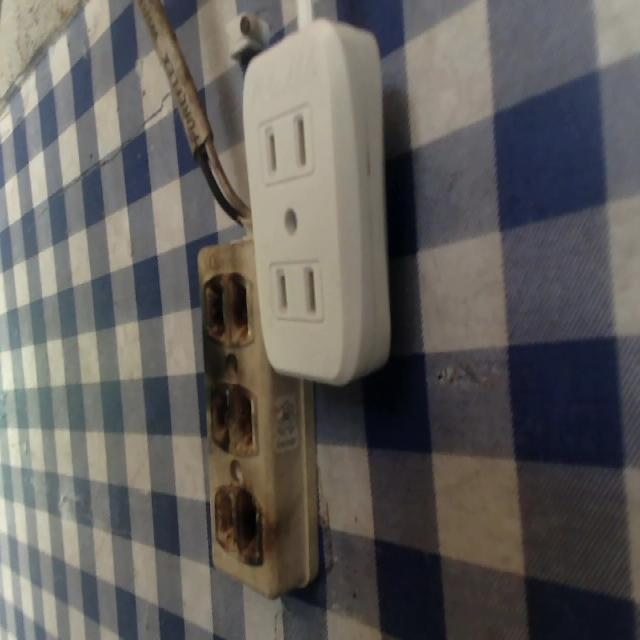-: (204, 376, 267, 459), (212, 482, 264, 570), (199, 268, 255, 345)
